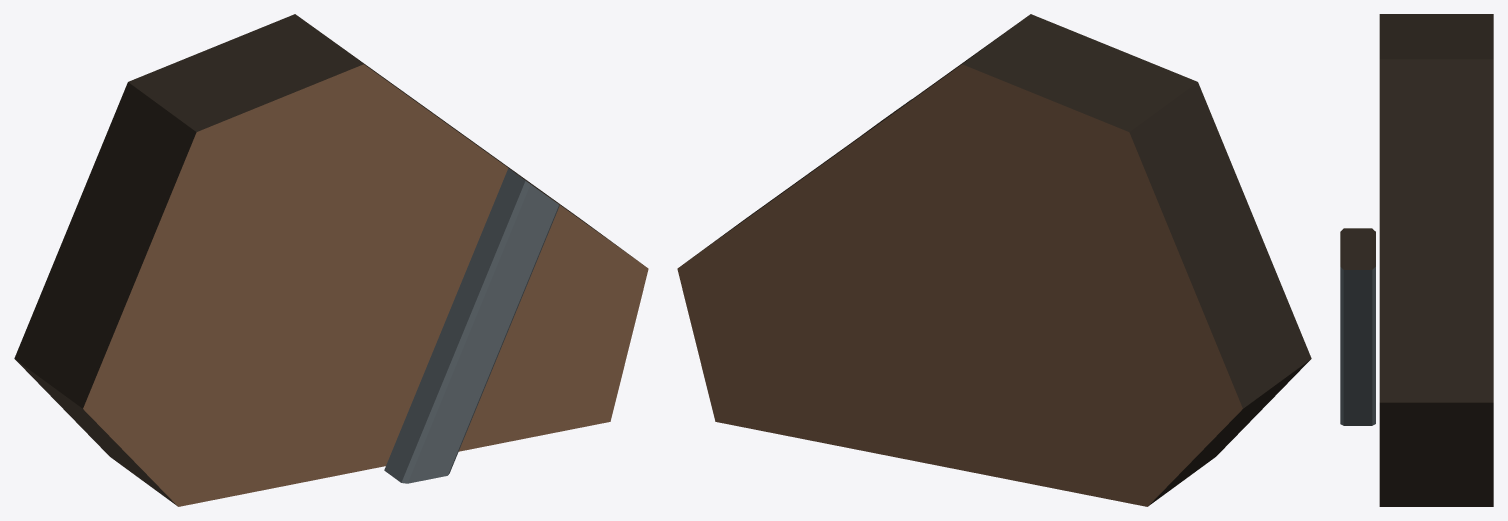
The model's file is SM_DoorShard_02_07.fbx.
3 renders of one model, left to right at view 1: azimuth 30°, elevation 25°; view 2: azimuth 150°, elevation 25°; view 3: azimuth 270°, elevation 25°, orthographic. The views are drawn at different scales.
Visible parts, largest first — view 1: SM_DoorShard_02_07; view 2: SM_DoorShard_02_07; view 3: SM_DoorShard_02_07.
Part boxes in pixels (x1,y1,x2,y2): SM_DoorShard_02_07: (14, 14, 648, 506); SM_DoorShard_02_07: (677, 14, 1311, 506); SM_DoorShard_02_07: (1340, 14, 1493, 506).
Size of the model in its own units: 76.11 by 21.5 by 53.71.
